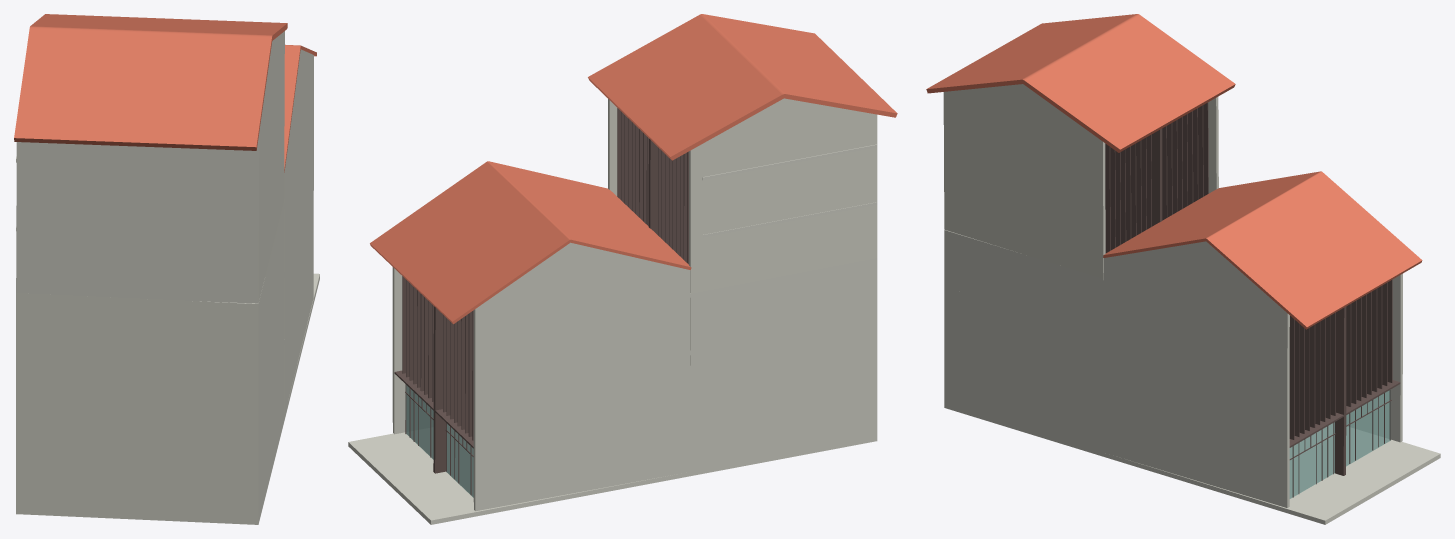
3 renders of one model, left to right at view 1: azimuth 30°, elevation 25°; view 2: azimuth 150°, elevation 25°; view 3: azimuth 270°, elevation 25°, orthographic. The views are drawn at different scales.
Parts seen in each view (by area): view 1: SketchUp.787, SketchUp.781, SketchUp.782, SketchUp.754, SketchUp.786, SketchUp.785, SketchUp.759, SketchUp.760, SketchUp.758, SketchUp.755; view 2: SketchUp.753, SketchUp.787, SketchUp.781, SketchUp.755, SketchUp.782, SketchUp.785, SketchUp.751, SketchUp.754, SketchUp.752, SketchUp.786, SketchUp.783, SketchUp.760 (+5 smaller); view 3: SketchUp.754, SketchUp.787, SketchUp.781, SketchUp.755, SketchUp.782, SketchUp.785, SketchUp.751, SketchUp.753, SketchUp.752, SketchUp.760, SketchUp.758, SketchUp.759 (+21 smaller).
Boxes of the visible parts, bbox=[...] form: SketchUp.787: bbox=[16, 212, 283, 519]; SketchUp.781: bbox=[16, 31, 284, 303]; SketchUp.782: bbox=[14, 14, 287, 150]; SketchUp.754: bbox=[284, 49, 313, 416]; SketchUp.786: bbox=[16, 203, 283, 315]; SketchUp.785: bbox=[16, 273, 319, 524]; SketchUp.759: bbox=[16, 166, 311, 379]; SketchUp.760: bbox=[16, 276, 300, 447]; SketchUp.758: bbox=[16, 96, 311, 310]; SketchUp.755: bbox=[284, 44, 316, 172]; SketchUp.753: bbox=[473, 242, 690, 511]; SketchUp.787: bbox=[690, 266, 877, 471]; SketchUp.781: bbox=[608, 98, 877, 293]; SketchUp.755: bbox=[370, 161, 691, 324]; SketchUp.782: bbox=[588, 14, 897, 160]; SketchUp.785: bbox=[348, 425, 877, 524]; SketchUp.751: bbox=[405, 384, 473, 497]; SketchUp.754: bbox=[392, 267, 432, 434]; SketchUp.752: bbox=[433, 306, 445, 473]; SketchUp.786: bbox=[690, 258, 877, 300]; SketchUp.783: bbox=[648, 138, 657, 234]; SketchUp.760: bbox=[487, 372, 877, 448]; SketchUp.754: bbox=[1103, 241, 1289, 507]; SketchUp.787: bbox=[944, 234, 1103, 452]; SketchUp.781: bbox=[943, 84, 1218, 278]; SketchUp.755: bbox=[1103, 171, 1422, 329]; SketchUp.782: bbox=[926, 14, 1235, 152]; SketchUp.785: bbox=[944, 403, 1440, 524]; SketchUp.751: bbox=[1289, 389, 1390, 498]; SketchUp.753: bbox=[1347, 273, 1402, 442]; SketchUp.752: bbox=[1334, 306, 1346, 475]; SketchUp.760: bbox=[944, 341, 1277, 447]; SketchUp.758: bbox=[944, 233, 1271, 335]; SketchUp.759: bbox=[944, 287, 1271, 391].
Bounding box in the file's own units: 2.47 × 2.15 × 2.84.
